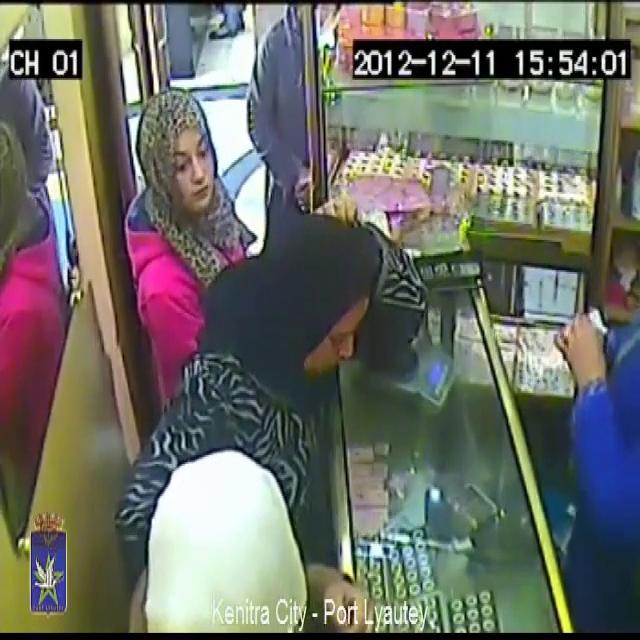Product: (562, 298, 610, 369)
normal: (129, 405, 345, 640), (144, 50, 256, 315), (260, 182, 390, 400)
shoplifting: (552, 217, 640, 612)
